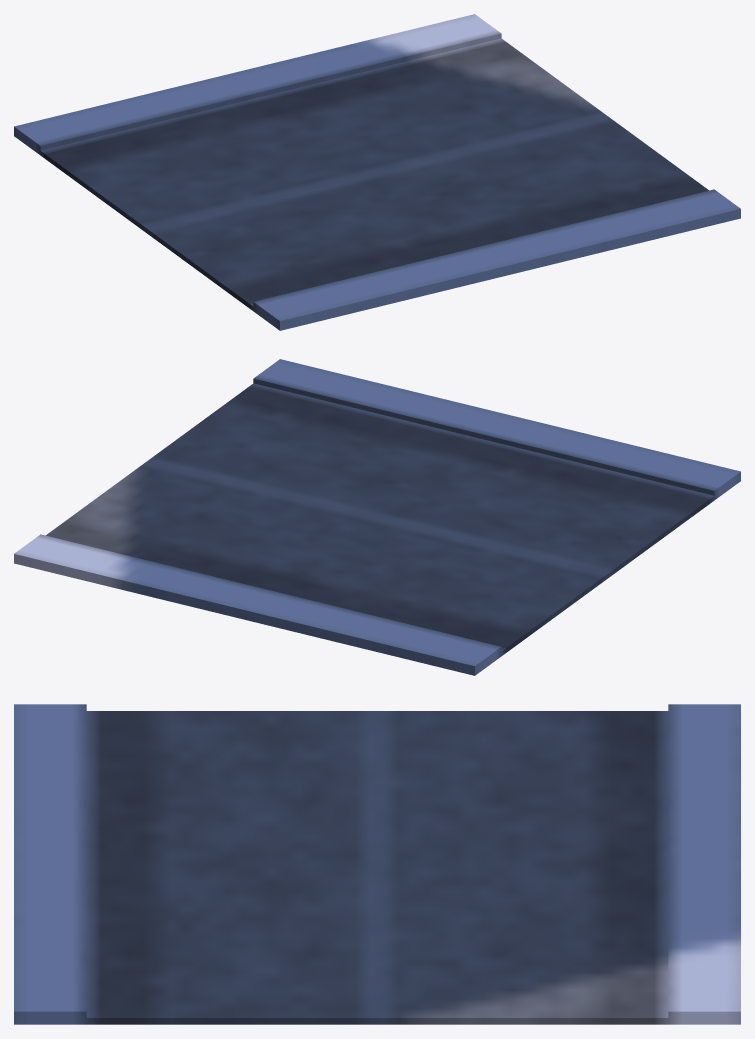
File: road-08.obj
3 renders of one model, top to bottom at view 1: azimuth 30°, elevation 25°; view 2: azimuth 150°, elevation 25°; view 3: azimuth 270°, elevation 25°, orthographic. The views are drawn at different scales.
Size of the model in its own units: 1 by 0.02 by 1.
1 material, 1 textured.
